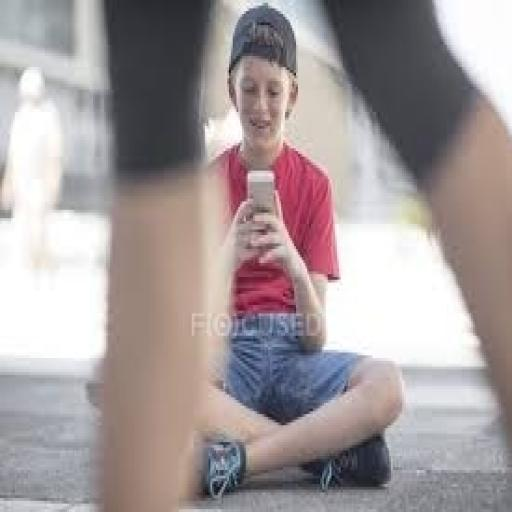texting: (186, 3, 406, 501)
